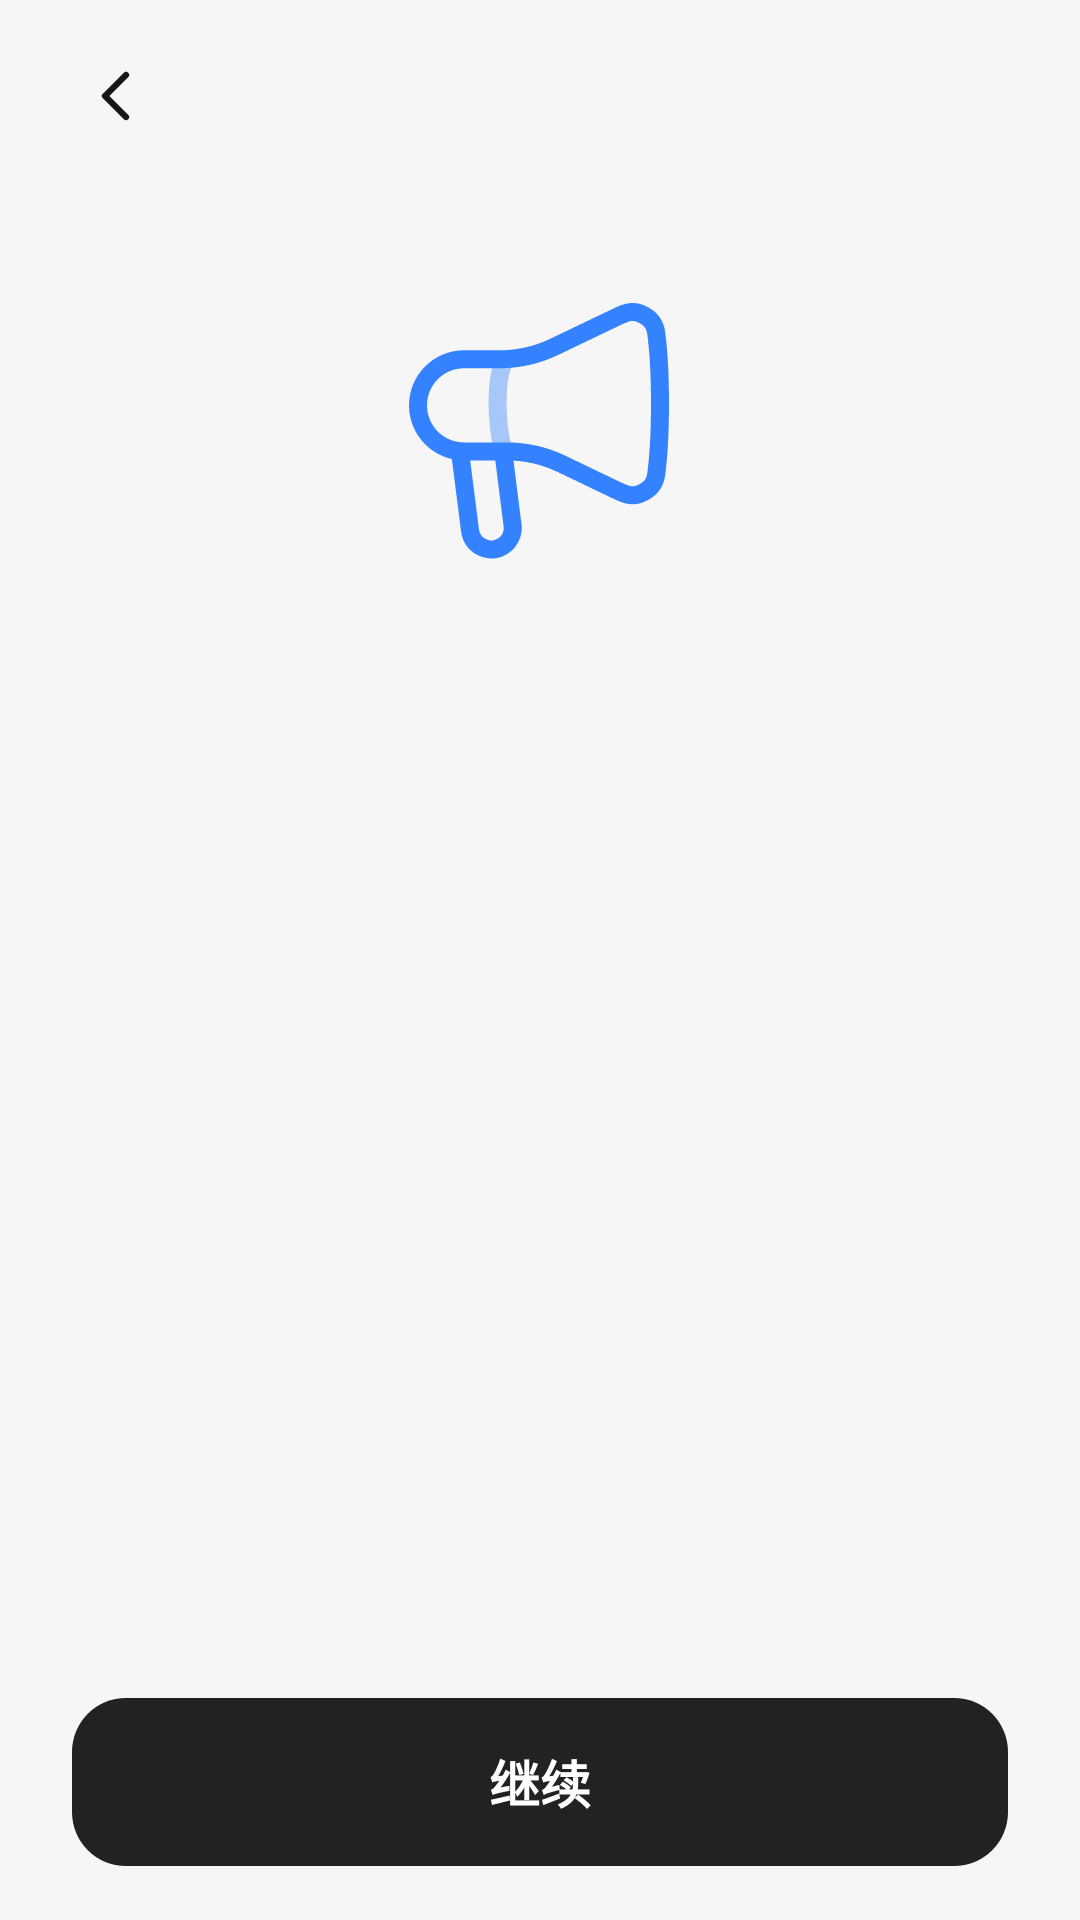

Named icons in this screenshot (1080 x 1920) and their centers, point (x, y):
返回: point (115, 96)
